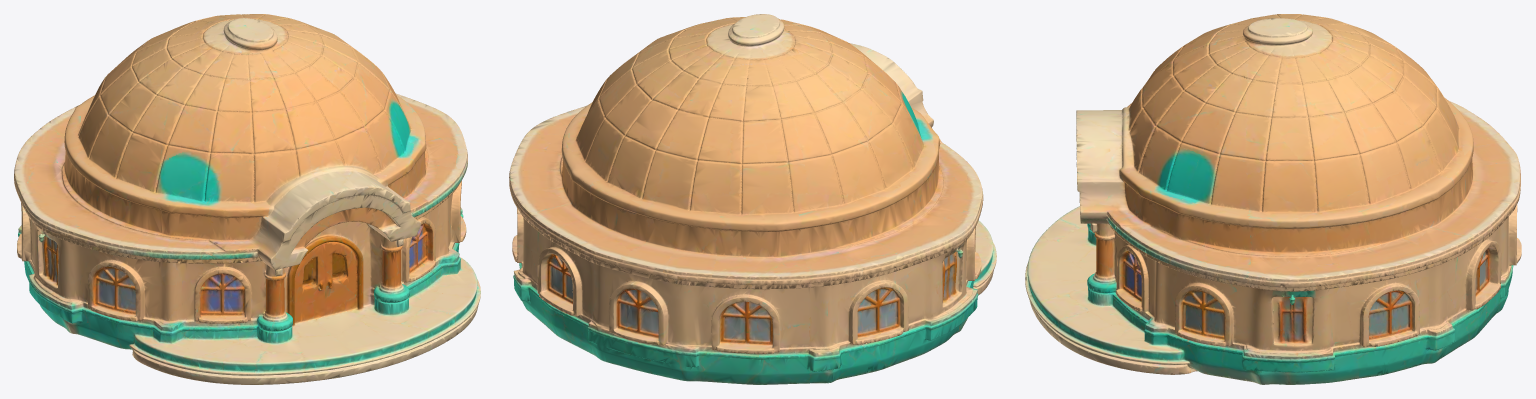
File: meshy_community_hub_opt.glb
3 renders of one model, left to right at view 1: azimuth 30°, elevation 25°; view 2: azimuth 150°, elevation 25°; view 3: azimuth 270°, elevation 25°, orthographic. The views are drawn at different scales.
Size of the model in its own units: 1.9 by 1.12 by 1.9.
Materials: 1 (1 with a texture image).
